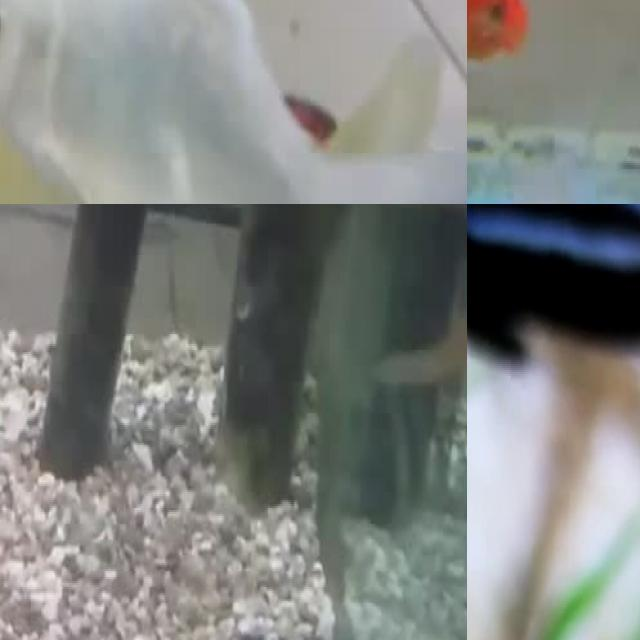fish: (0, 0, 467, 204), (467, 0, 585, 147)
